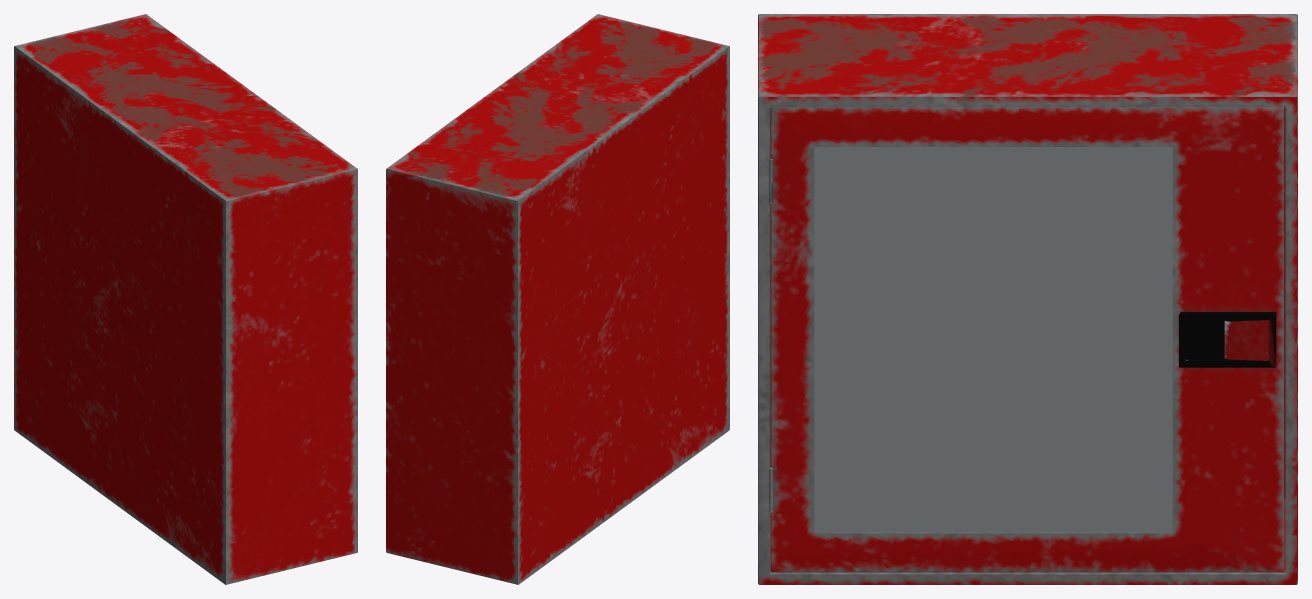
File: fire_hose_cabinet.glb
3 renders of one model, left to right at view 1: azimuth 30°, elevation 25°; view 2: azimuth 150°, elevation 25°; view 3: azimuth 270°, elevation 25°, orthographic. The views are drawn at different scales.
Parts seen in each view (by area): view 1: Cabinet; view 2: Cabinet; view 3: Cristal, Door, Cabinet, Handle_Door.
Boxes of the visible parts, box(x1,y1,x2,y2) form: Cabinet: box(14, 14, 357, 584); Cabinet: box(386, 14, 729, 584); Cristal: box(814, 147, 1172, 532); Door: box(771, 107, 1283, 572); Cabinet: box(758, 14, 1297, 584); Handle_Door: box(1179, 312, 1276, 367).
Size of the model in its own units: 4.09 by 11.21 by 11.21.
2 materials, 2 textured.
